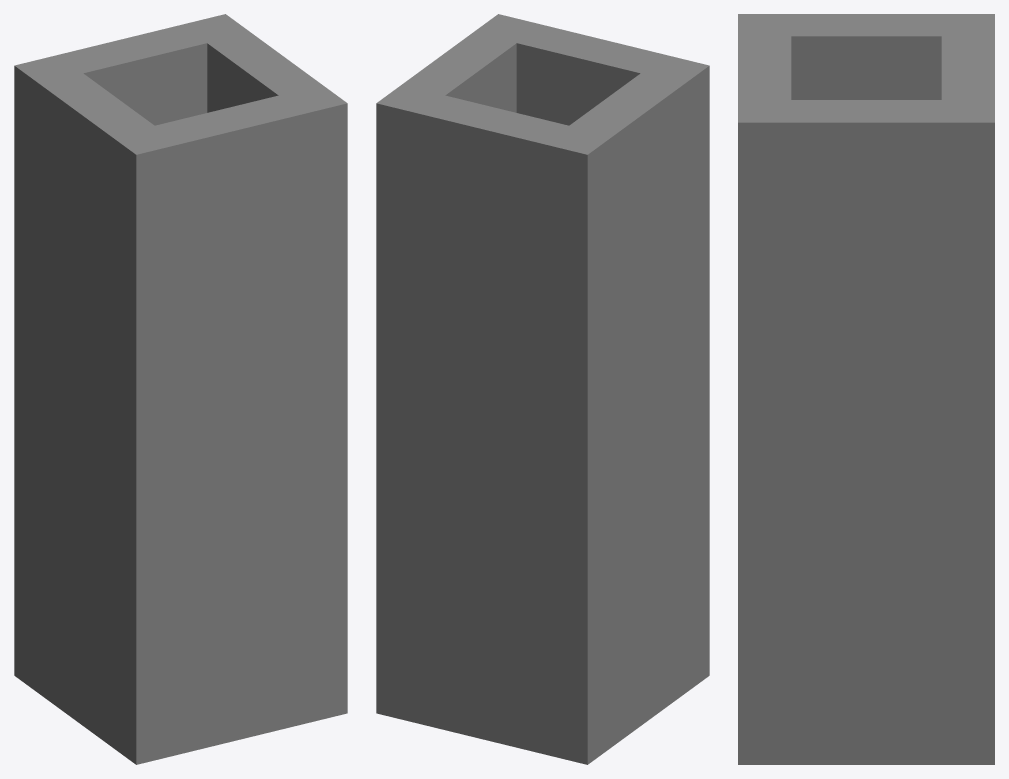
The model's file is ConduitVertical.obj.
The picture shows the model from 3 angles, left to right: view 1: azimuth 30°, elevation 25°; view 2: azimuth 150°, elevation 25°; view 3: azimuth 270°, elevation 25°; orthographic projection. The views are drawn at different scales.
Parts seen in each view (by area): view 1: FluidConduit_Cube.022; view 2: FluidConduit_Cube.022; view 3: FluidConduit_Cube.022.
Boxes of the visible parts, left/top/right/bottom form: FluidConduit_Cube.022: left=14, top=14, right=347, bottom=764; FluidConduit_Cube.022: left=376, top=14, right=709, bottom=764; FluidConduit_Cube.022: left=738, top=14, right=994, bottom=764.
Size of the model in its own units: 0.3625 by 1 by 0.3625.
